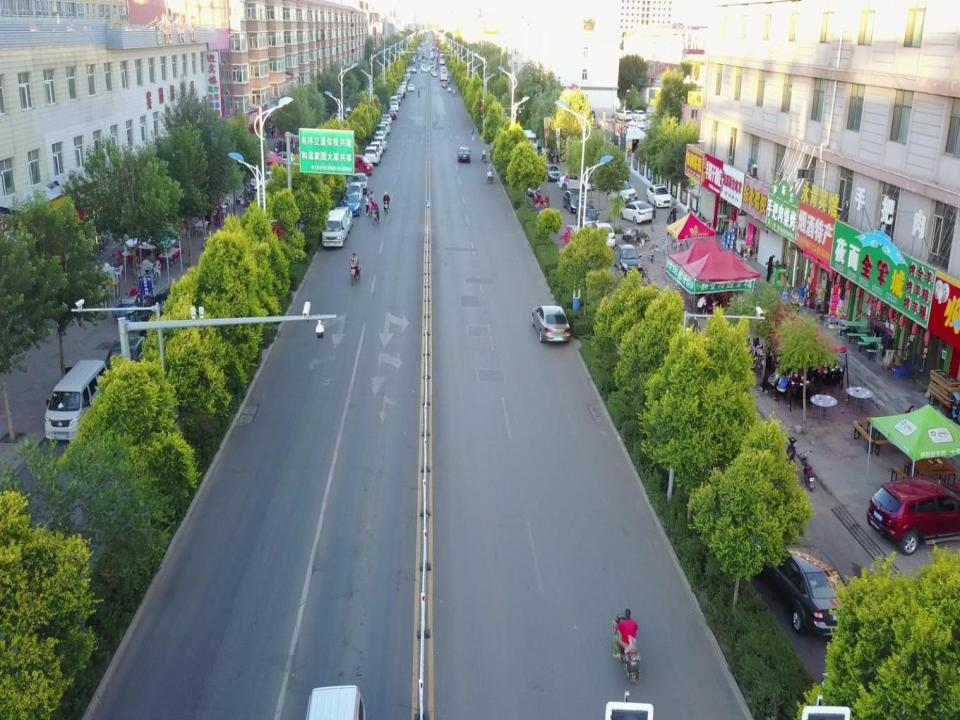bus: (439, 66, 448, 80)
car: (747, 534, 857, 644), (865, 478, 960, 554), (99, 333, 148, 389), (139, 282, 188, 336), (532, 306, 570, 344), (612, 244, 642, 278), (618, 199, 655, 225), (609, 178, 638, 204), (590, 222, 616, 250), (576, 204, 600, 232), (644, 184, 672, 208), (250, 170, 282, 190), (344, 154, 374, 174), (332, 206, 353, 232), (562, 190, 584, 214), (270, 150, 296, 170), (556, 174, 586, 190), (522, 171, 541, 195), (342, 192, 360, 216), (541, 164, 562, 184), (350, 173, 369, 194), (346, 183, 363, 203), (364, 146, 380, 164), (369, 141, 383, 158), (372, 137, 387, 152), (457, 148, 471, 163), (375, 124, 388, 138), (378, 122, 391, 136), (343, 105, 355, 120), (373, 131, 385, 143), (380, 114, 392, 126), (387, 109, 397, 121), (388, 96, 398, 107), (389, 103, 399, 111), (420, 66, 430, 72), (408, 83, 414, 92), (442, 81, 447, 88), (430, 69, 435, 74), (433, 71, 437, 77)
van: (43, 358, 110, 442), (322, 209, 350, 247)
